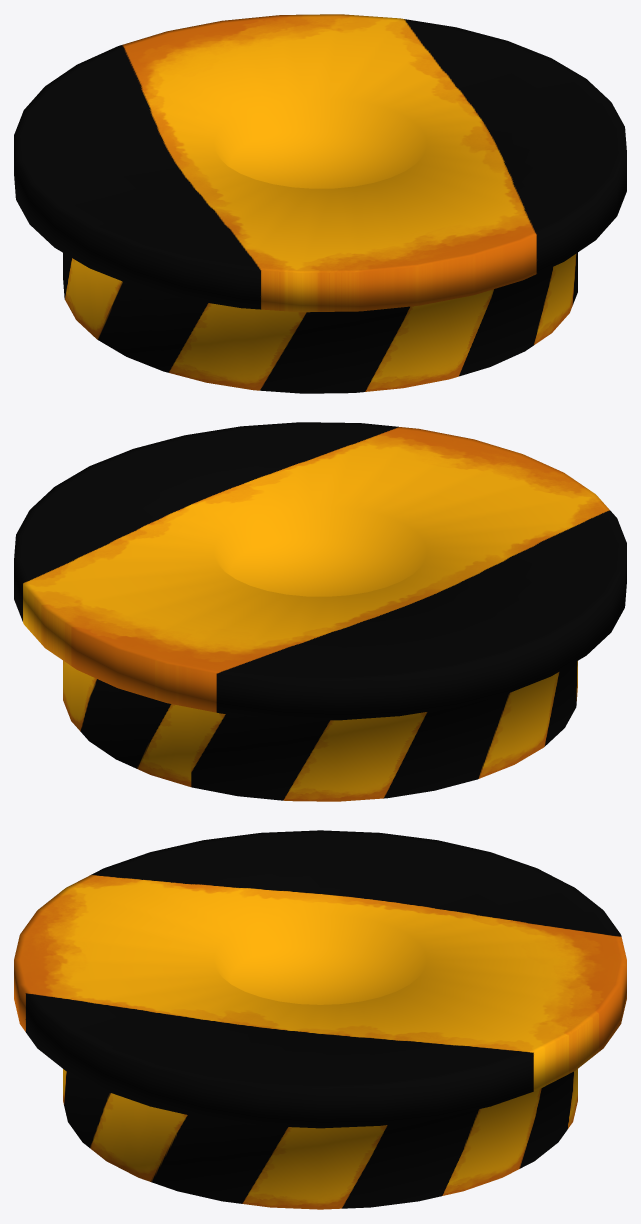
File: FlameTrower.fbx
The picture shows the model from 3 angles, top to bottom: view 1: azimuth 30°, elevation 25°; view 2: azimuth 150°, elevation 25°; view 3: azimuth 270°, elevation 25°; orthographic projection.
Visible parts, largest first — view 1: Cylinder; view 2: Cylinder; view 3: Cylinder.
Part boxes in pixels (x1=…): Cylinder: x1=14, y1=14, x2=626, y2=393; Cylinder: x1=14, y1=422, x2=626, y2=801; Cylinder: x1=14, y1=830, x2=626, y2=1209.
Size of the model in its own units: 2.38 by 0.6037 by 2.38.
